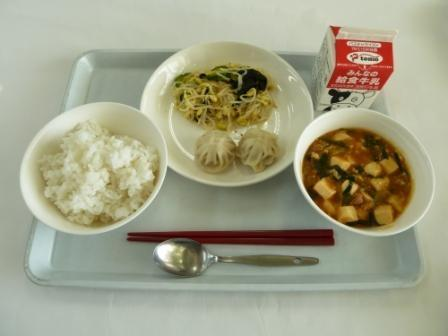Milk: (306, 18, 406, 118)
Rice: (24, 111, 164, 239)
Salad: (161, 55, 280, 127)
Spicy chili-flavored tofu: (293, 107, 428, 243)
manty: (189, 119, 285, 174)
